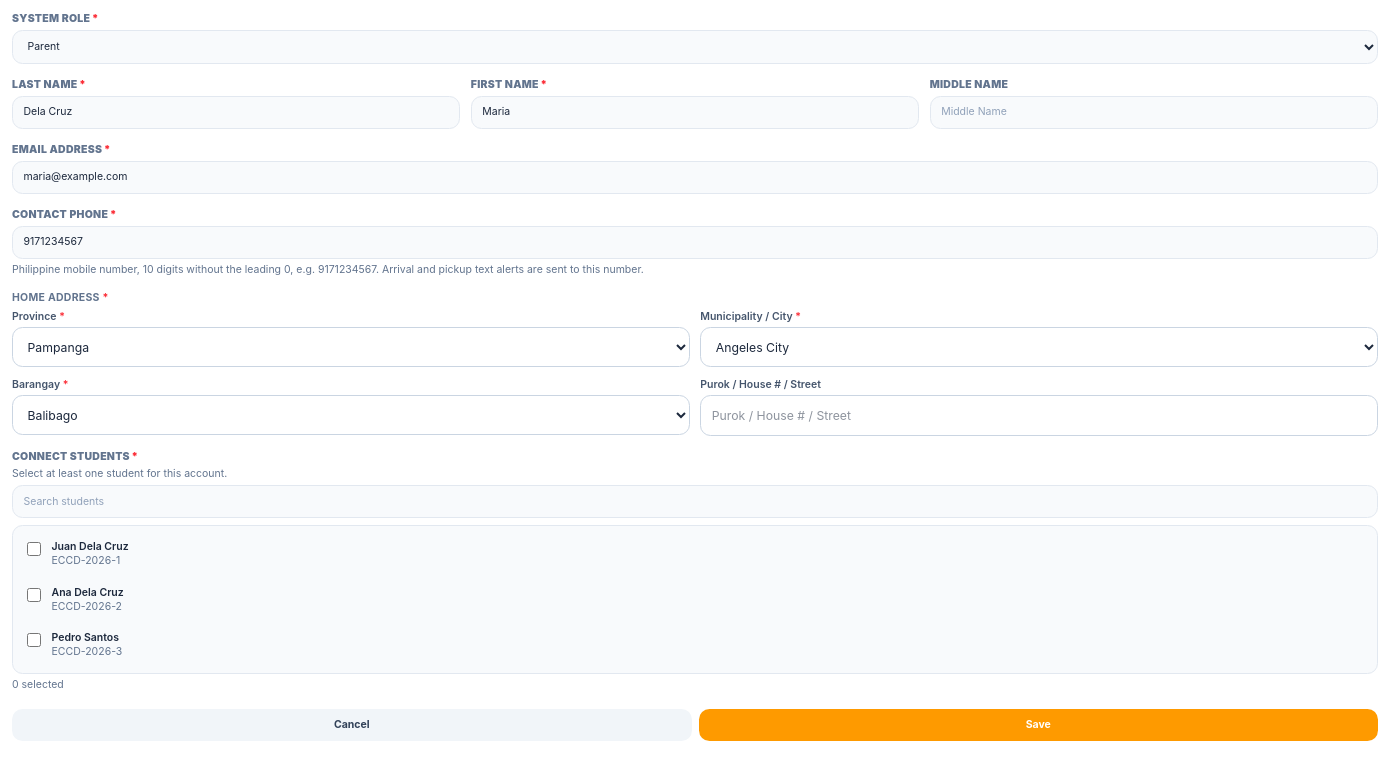
Test: AccountForm student picker › lets one account be connected to several students
What coordinates should you click on to do the following:
click the checkbox labelled "Juan Dela Cruz ECCD-2026-1"
I would click on:
 (34, 549)
Its box is [27,542,41,556].
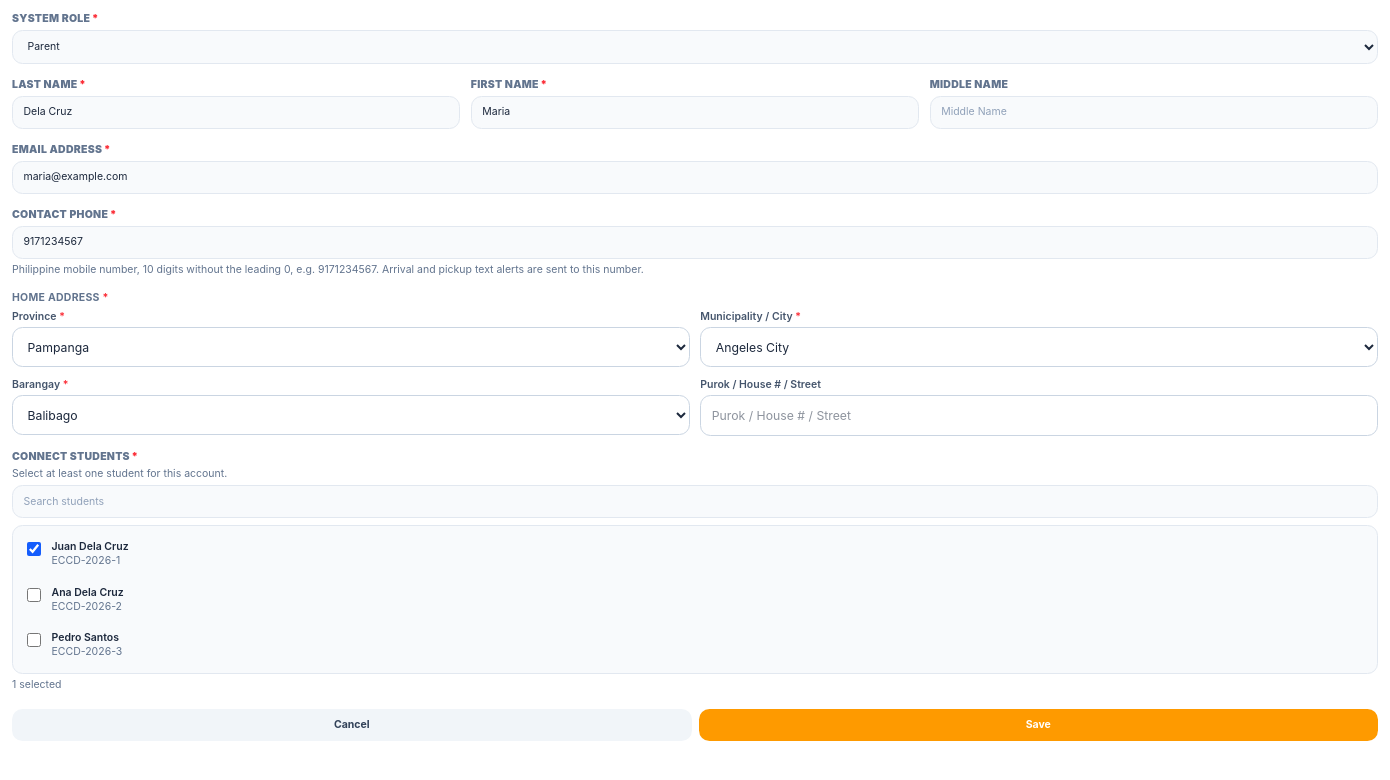
What coordinates should you click on to do the following:
click the checkbox labelled "Ana Dela Cruz ECCD-2026-2"
I would click on:
 (34, 594)
Its box is [27,588,41,602].
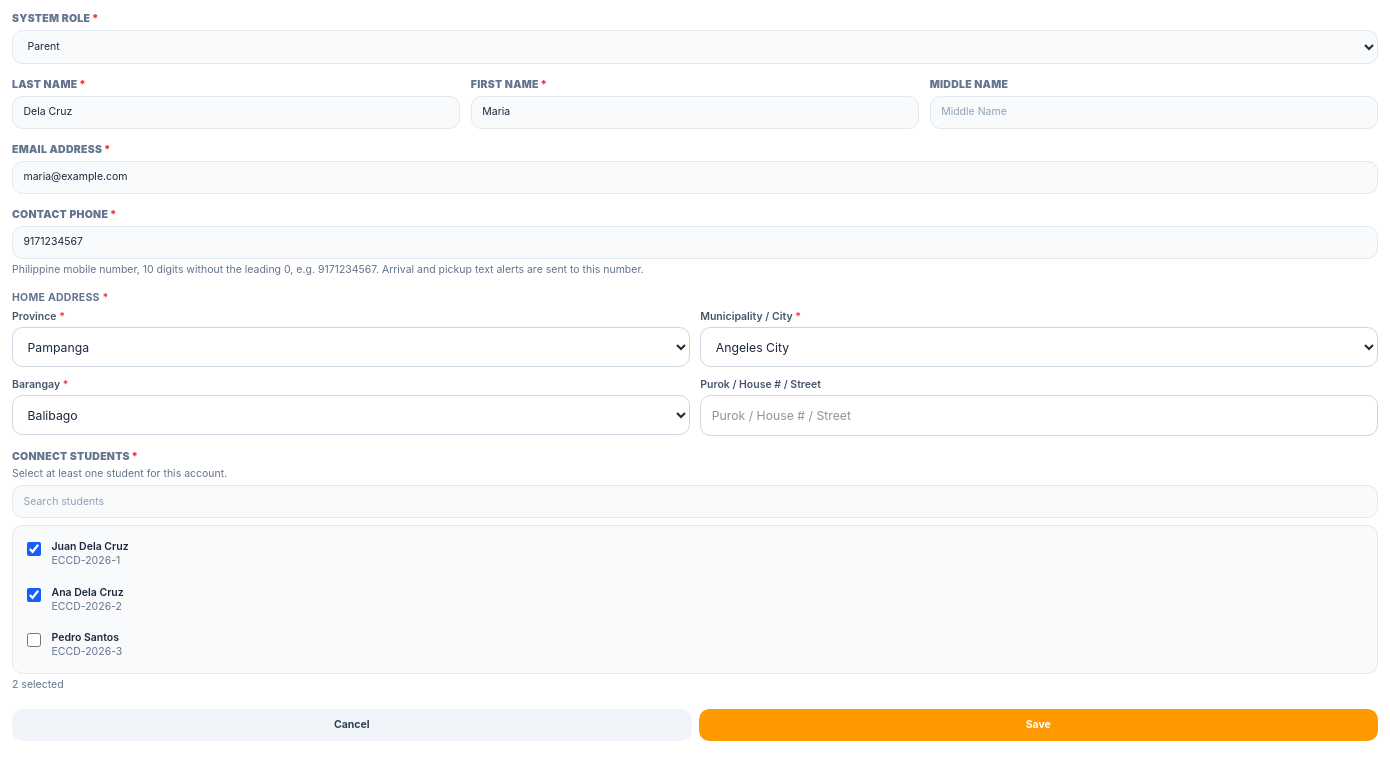
expect the checkbox labelled "Juan Dela Cruz ECCD-2026-1" is checked: met, box [27,542,41,556]
expect the checkbox labelled "Ana Dela Cruz ECCD-2026-2" is checked: met, box [27,588,41,602]
expect the text "2 selected" is shown: met, box [12,678,64,691]
